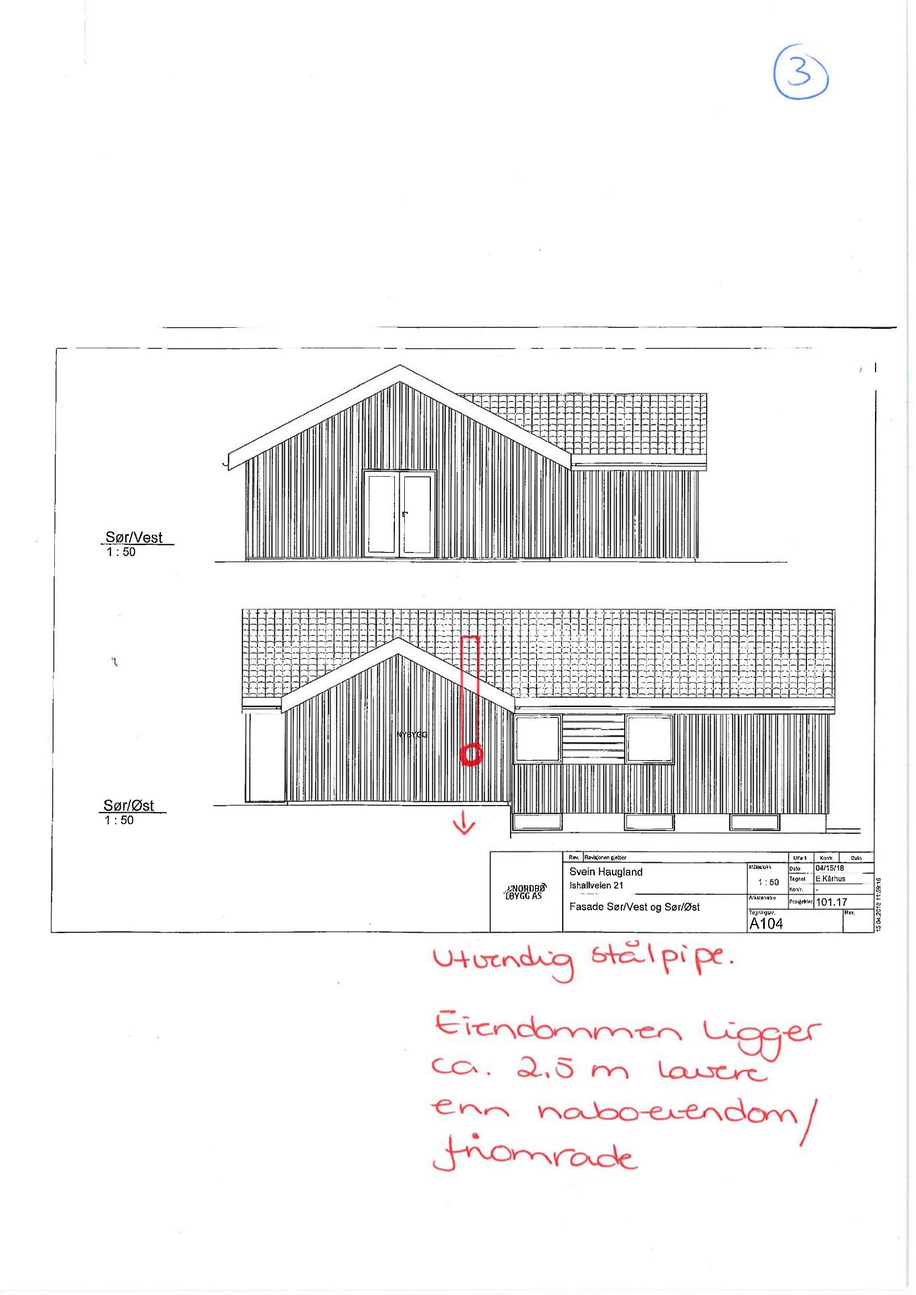fasade: (242, 607, 836, 835), (227, 367, 707, 562)
